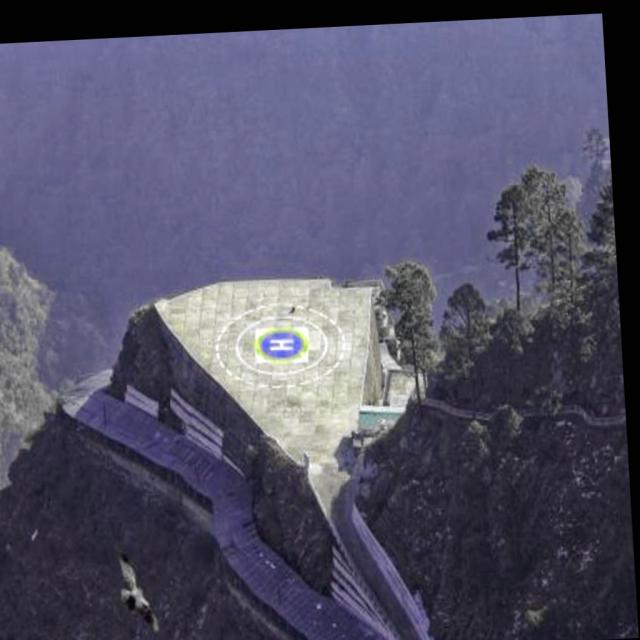helipad: (252, 326, 309, 363)
